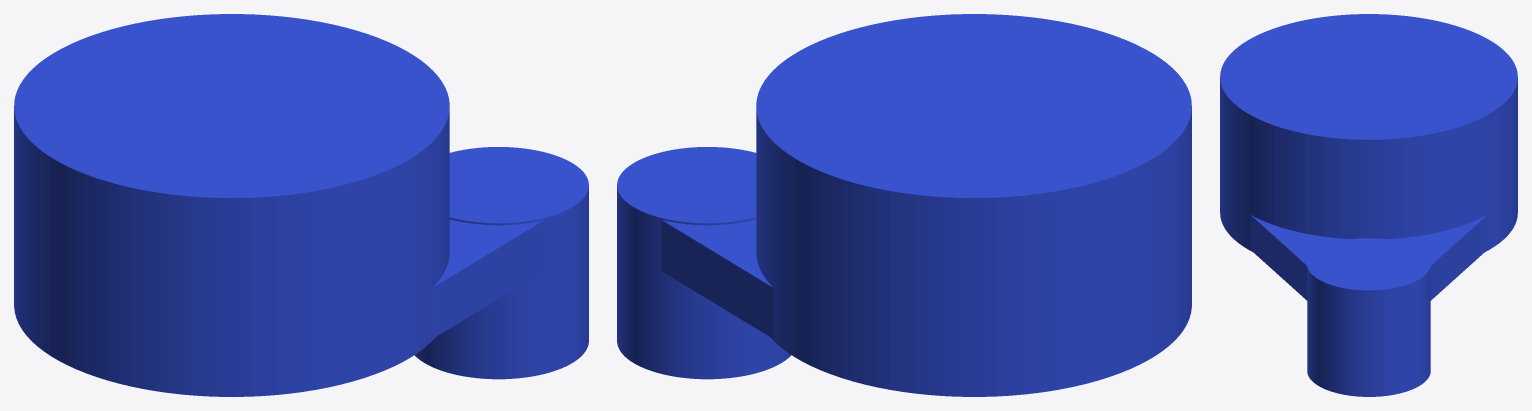
Rendered from lidar.dae.
3 renders of one model, left to right at view 1: azimuth 30°, elevation 25°; view 2: azimuth 150°, elevation 25°; view 3: azimuth 270°, elevation 25°, orthographic. The views are drawn at different scales.
Visible parts, largest first — view 1: Cube; view 2: Cube; view 3: Cube.
Boxes of the visible parts, box(x1,y1,x2,y2) form: Cube: box(14, 14, 588, 396); Cube: box(617, 14, 1191, 396); Cube: box(1220, 14, 1517, 396).
Bounding box in the file's own units: 0.0835 × 0.059 × 0.0448.
